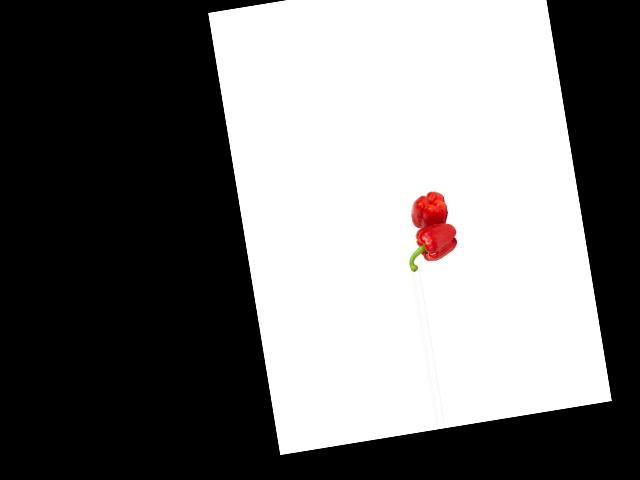bell_pepper: (405, 189, 451, 229)
